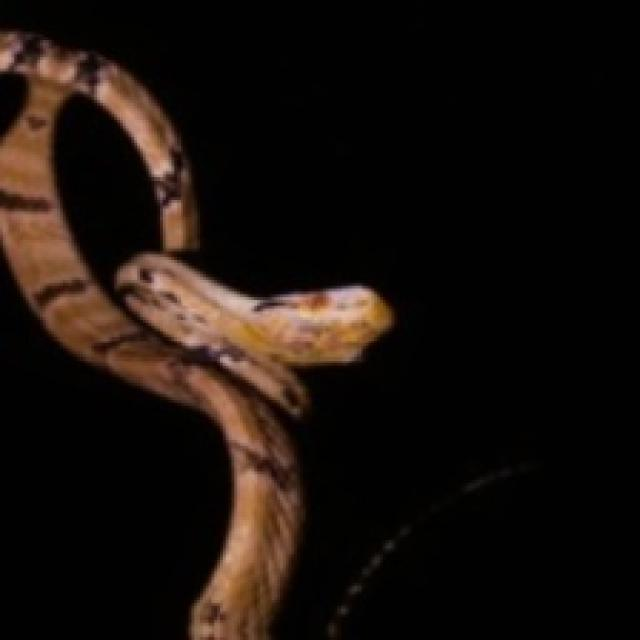dog-toothed cat snake: (0, 31, 391, 637)
